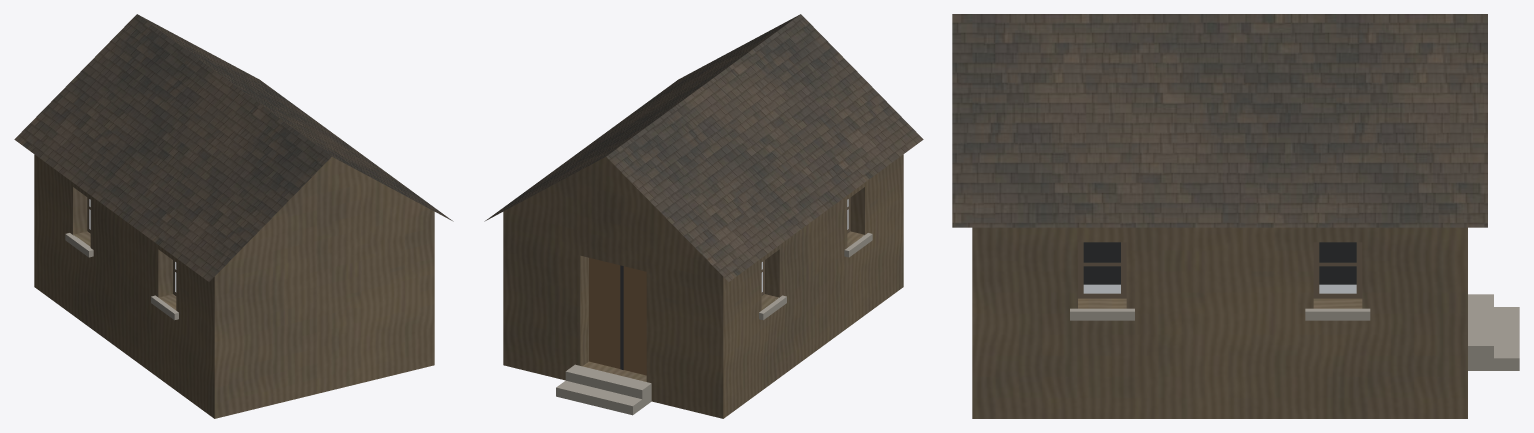
The model's file is cemetery_dead_house_1871__dead_house_1860_1871.glb.
3 views of the same model, side by side, from view 1: azimuth 30°, elevation 25°; view 2: azimuth 150°, elevation 25°; view 3: azimuth 270°, elevation 25° (orthographic). The views are drawn at different scales.
Parts seen in each view (by area): view 1: cemetery_dead_house_1871__dead_house_1860_1871; view 2: cemetery_dead_house_1871__dead_house_1860_1871; view 3: cemetery_dead_house_1871__dead_house_1860_1871.
Boxes of the visible parts, x1=… form: cemetery_dead_house_1871__dead_house_1860_1871: x1=14, y1=14, x2=453, y2=418; cemetery_dead_house_1871__dead_house_1860_1871: x1=484, y1=14, x2=923, y2=418; cemetery_dead_house_1871__dead_house_1860_1871: x1=952, y1=14, x2=1519, y2=418.
Bounding box in the file's own units: 4.8 × 4.5 × 6.99.
8 materials, 2 textured.
